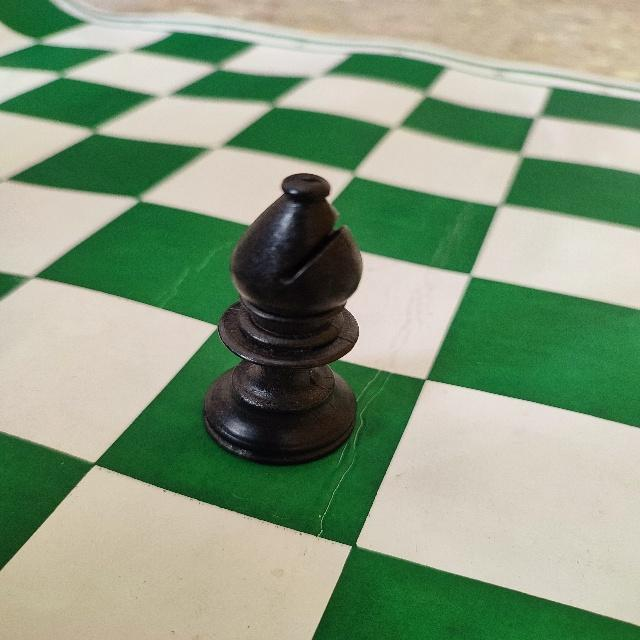Bishop: (202, 169, 365, 469)
